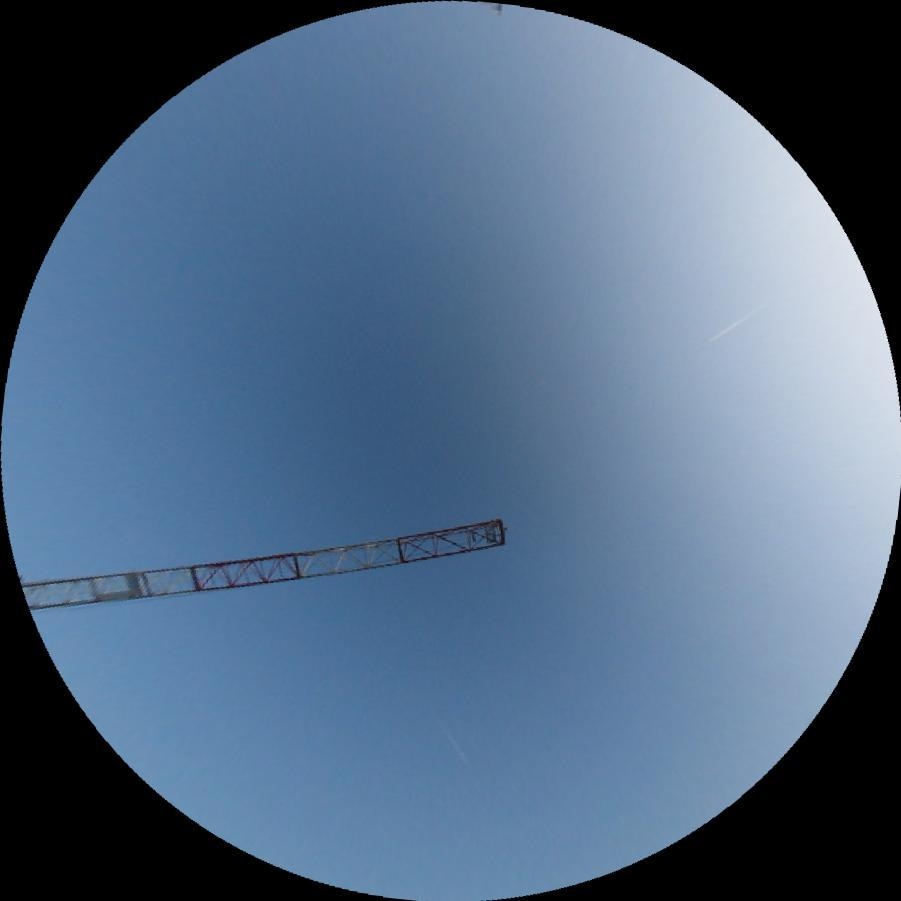contrail young: (706, 302, 766, 342), (433, 716, 470, 765)
